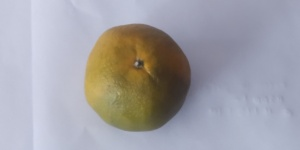BAD: (84, 22, 192, 133)
